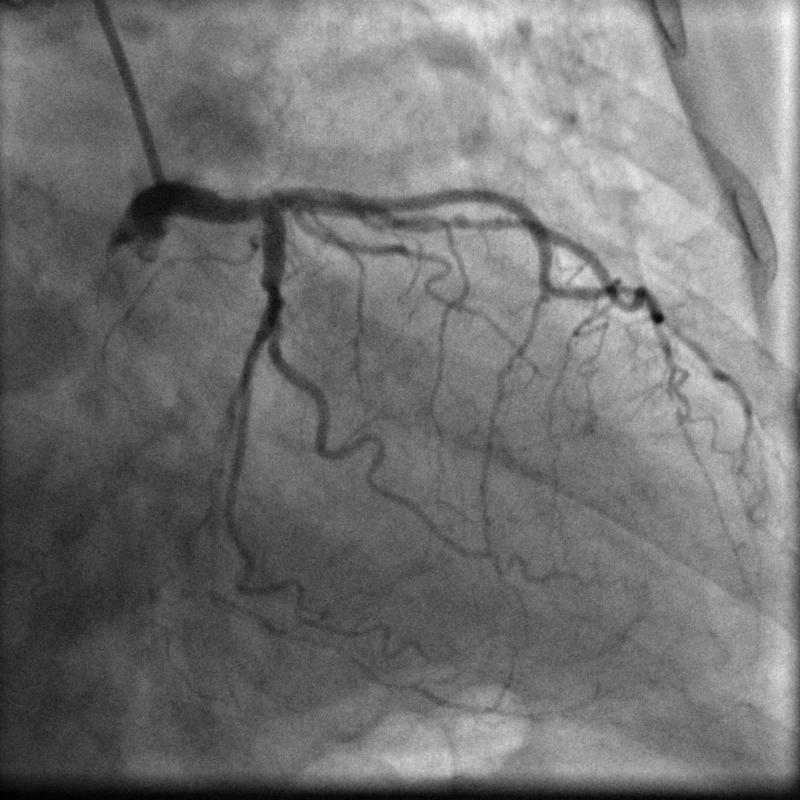Stenosis: (410, 208, 499, 243)
